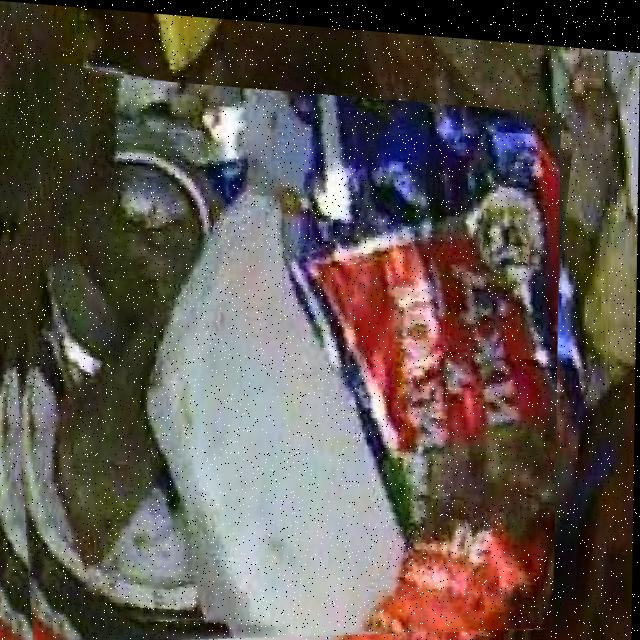litter: (0, 67, 561, 640)
